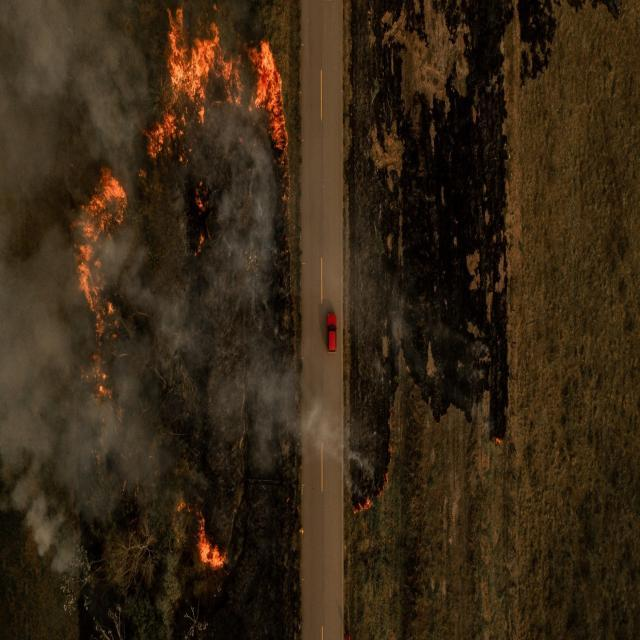Fire: (151, 11, 245, 158), (70, 163, 128, 396), (247, 38, 289, 160), (177, 501, 207, 540), (196, 540, 230, 570), (379, 445, 392, 498), (191, 230, 206, 256), (352, 498, 373, 514), (192, 189, 205, 213), (495, 434, 504, 444)
Smoke: (200, 104, 272, 325), (126, 226, 204, 370), (94, 398, 168, 508), (52, 410, 116, 530), (75, 54, 137, 148), (0, 400, 54, 506), (14, 22, 68, 112), (246, 344, 276, 473), (303, 398, 343, 466), (281, 354, 301, 434), (343, 443, 377, 485), (26, 491, 48, 553), (51, 546, 75, 576), (388, 309, 402, 336)
